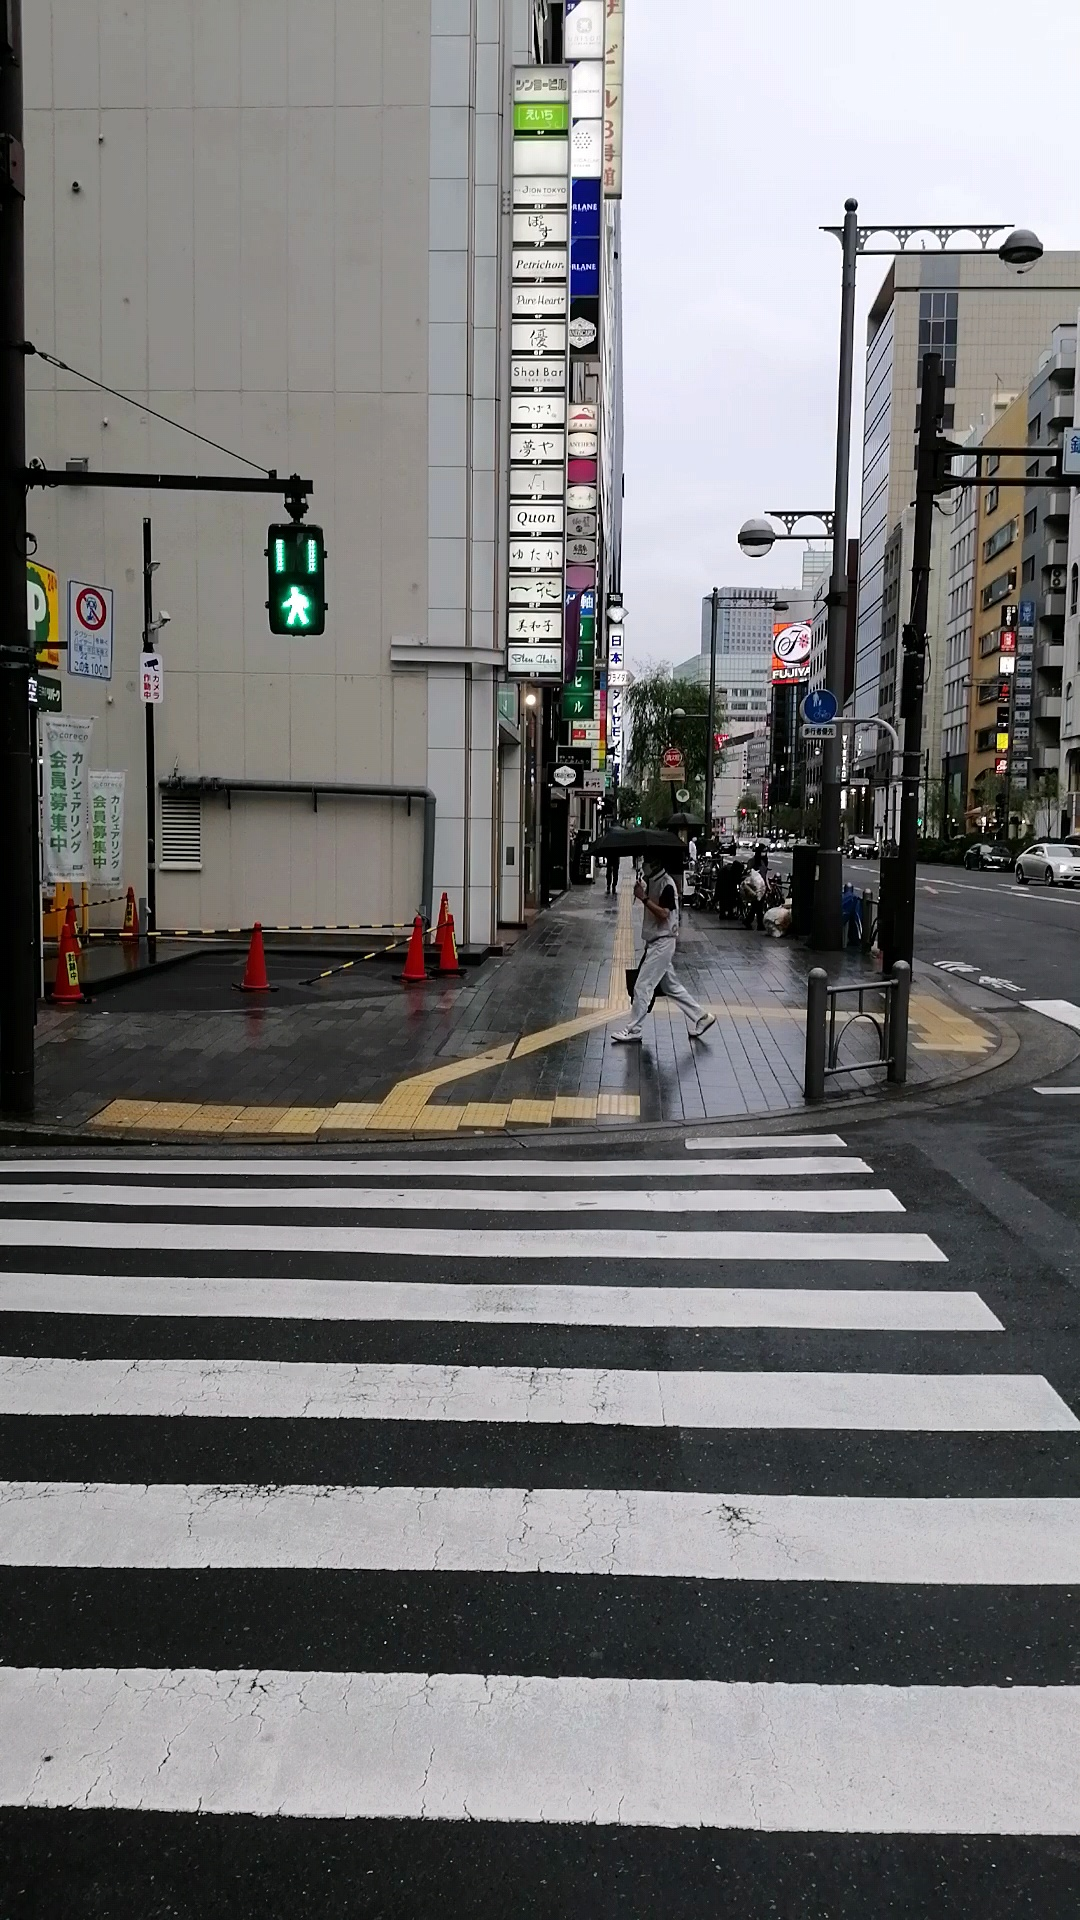green: (265, 522, 328, 637)
